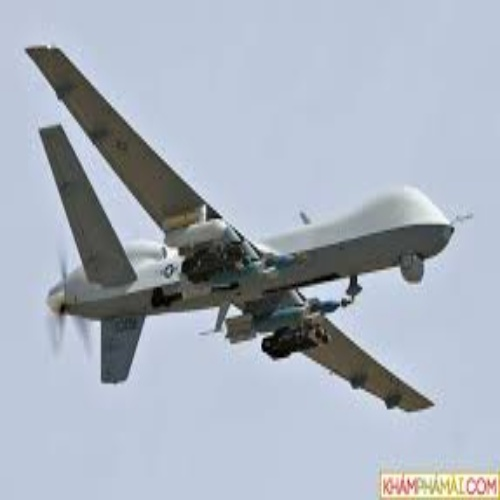uav: (21, 43, 464, 411)
